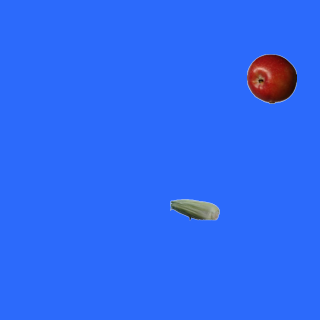Apple Braeburn: (246, 53, 296, 103)
Corn Husk: (169, 184, 219, 234)
